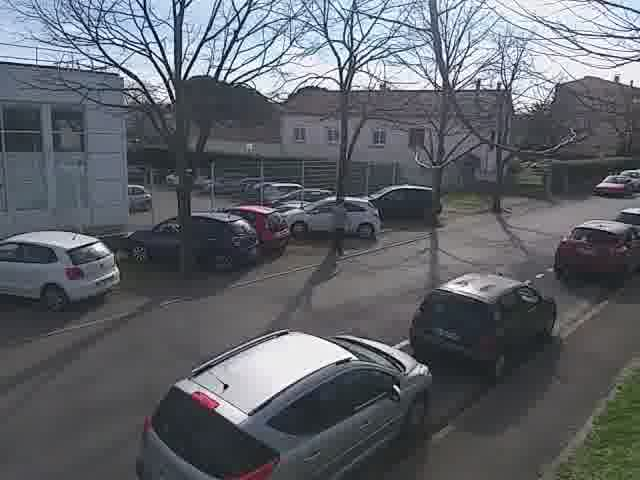persona: (323, 190, 353, 261)
